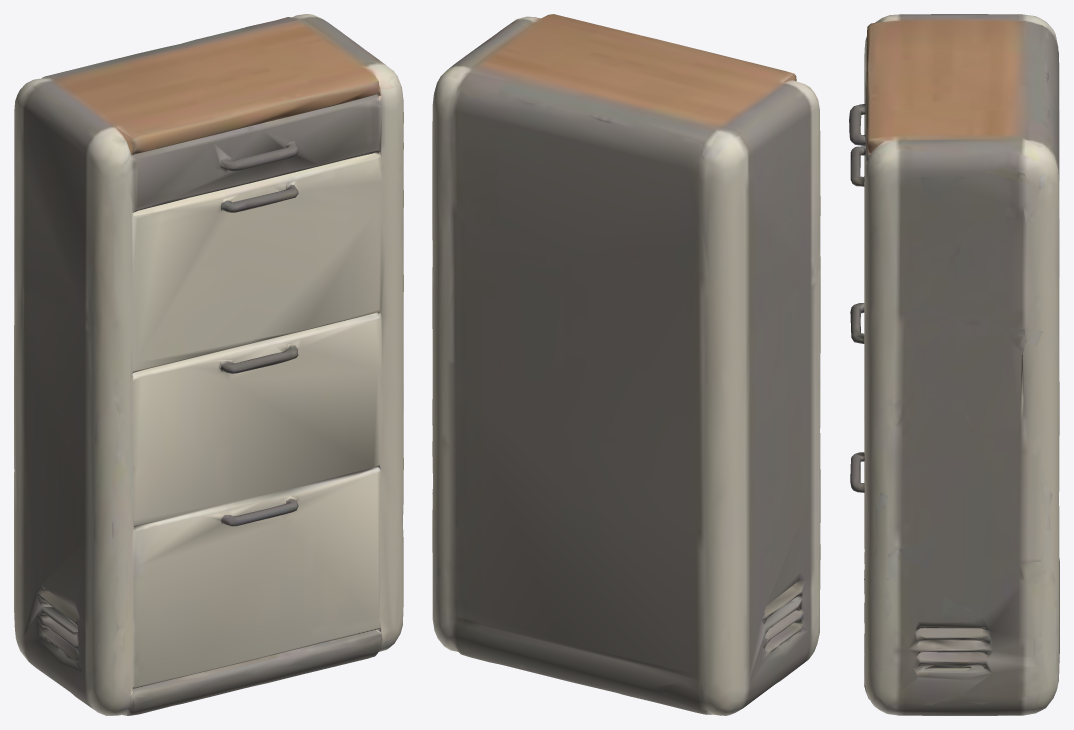
File: shoe_cabinet.glb
3 views of the same model, side by side, from view 1: azimuth 30°, elevation 25°; view 2: azimuth 150°, elevation 25°; view 3: azimuth 270°, elevation 25° (orthographic). The views are drawn at different scales.
Parts seen in each view (by area): view 1: geometry_0; view 2: geometry_0; view 3: geometry_0.
Part boxes in pixels (box(x1,y1,x2,y2)): geometry_0: box(14, 14, 403, 715); geometry_0: box(432, 14, 820, 715); geometry_0: box(849, 14, 1059, 715).
Bounding box in the file's own units: 0.5549 × 1 × 0.3343.
Materials: 1 (1 with a texture image).
